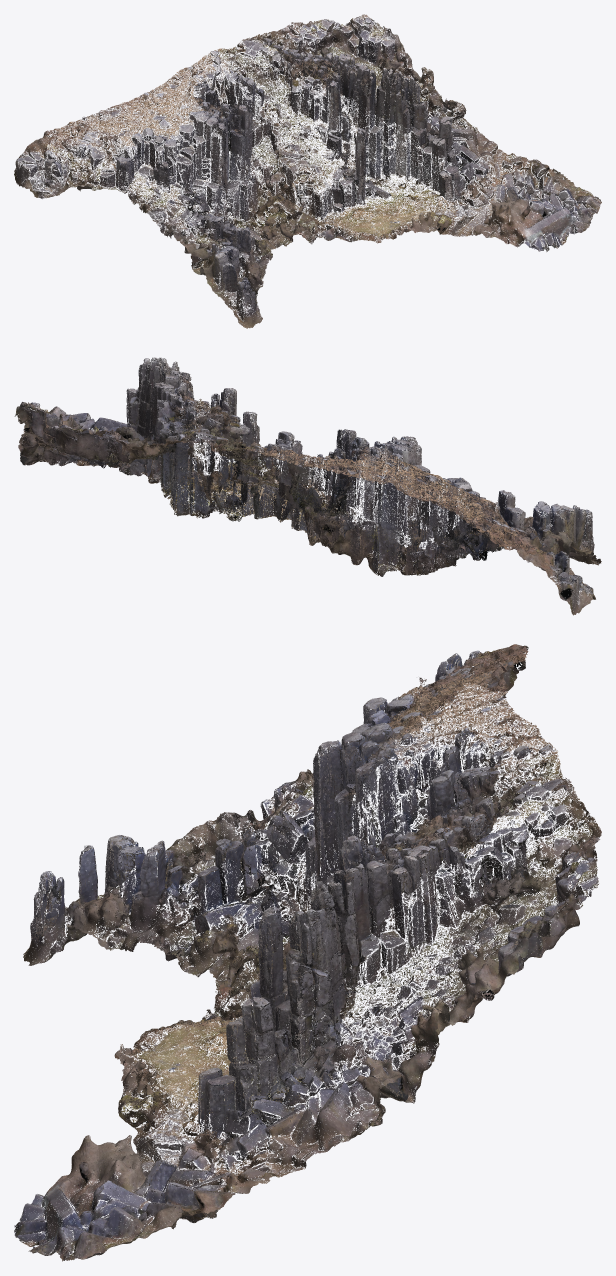
The model's file is mudeung.glb.
The picture shows the model from 3 angles, top to bottom: view 1: azimuth 30°, elevation 25°; view 2: azimuth 150°, elevation 25°; view 3: azimuth 270°, elevation 25°; orthographic projection. The views are drawn at different scales.
Parts seen in each view (by area): view 1: SM_MDS_Entire_M_MDS_Entire_0.049, SM_MDS_Entire_M_MDS_Entire_0.050, SM_MDS_Entire_M_MDS_Entire_0.047, SM_MDS_Entire_M_MDS_Entire_0.048, SM_MDS_Entire_M_MDS_Entire_0.051, SM_MDS_Entire_M_MDS_Entire_0.052, SM_MDS_Entire_M_MDS_Entire_0.046, SM_MDS_Entire_M_MDS_Entire_0.053, SM_MDS_Entire_M_MDS_Entire_0.055, SM_MDS_Entire_M_MDS_Entire_0.056, SM_MDS_Entire_M_MDS_Entire_0.054, SM_MDS_Entire_M_MDS_Entire_0.045 (+70 smaller); view 2: SM_MDS_Entire_M_MDS_Entire_0.049, SM_MDS_Entire_M_MDS_Entire_0.050, SM_MDS_Entire_M_MDS_Entire_0.047, SM_MDS_Entire_M_MDS_Entire_0.048, SM_MDS_Entire_M_MDS_Entire_0.051, SM_MDS_Entire_M_MDS_Entire_0.046, SM_MDS_Entire_M_MDS_Entire_0.053, SM_MDS_Entire_M_MDS_Entire_0.052, SM_MDS_Entire_M_MDS_Entire_0.045, SM_MDS_Entire_M_MDS_Entire_0.056, SM_MDS_Entire_M_MDS_Entire_0.054, SM_MDS_Entire_M_MDS_Entire_0.040 (+70 smaller); view 3: SM_MDS_Entire_M_MDS_Entire_0.049, SM_MDS_Entire_M_MDS_Entire_0.050, SM_MDS_Entire_M_MDS_Entire_0.048, SM_MDS_Entire_M_MDS_Entire_0.051, SM_MDS_Entire_M_MDS_Entire_0.047, SM_MDS_Entire_M_MDS_Entire_0.046, SM_MDS_Entire_M_MDS_Entire_0.053, SM_MDS_Entire_M_MDS_Entire_0.052, SM_MDS_Entire_M_MDS_Entire_0.054, SM_MDS_Entire_M_MDS_Entire_0.055, SM_MDS_Entire_M_MDS_Entire_0.056, SM_MDS_Entire_M_MDS_Entire_0.045 (+71 smaller).
Boxes of the visible parts, x1=… form: SM_MDS_Entire_M_MDS_Entire_0.049: x1=16, y1=15, x2=598, y2=324; SM_MDS_Entire_M_MDS_Entire_0.050: x1=14, y1=20, x2=600, y2=328; SM_MDS_Entire_M_MDS_Entire_0.047: x1=14, y1=15, x2=597, y2=327; SM_MDS_Entire_M_MDS_Entire_0.048: x1=16, y1=15, x2=598, y2=326; SM_MDS_Entire_M_MDS_Entire_0.051: x1=17, y1=18, x2=600, y2=327; SM_MDS_Entire_M_MDS_Entire_0.052: x1=14, y1=21, x2=600, y2=326; SM_MDS_Entire_M_MDS_Entire_0.046: x1=18, y1=20, x2=598, y2=322; SM_MDS_Entire_M_MDS_Entire_0.053: x1=16, y1=16, x2=599, y2=325; SM_MDS_Entire_M_MDS_Entire_0.055: x1=16, y1=18, x2=595, y2=327; SM_MDS_Entire_M_MDS_Entire_0.056: x1=19, y1=19, x2=597, y2=322; SM_MDS_Entire_M_MDS_Entire_0.054: x1=16, y1=16, x2=597, y2=325; SM_MDS_Entire_M_MDS_Entire_0.045: x1=16, y1=16, x2=599, y2=328; SM_MDS_Entire_M_MDS_Entire_0.049: x1=18, y1=357, x2=598, y2=614; SM_MDS_Entire_M_MDS_Entire_0.050: x1=17, y1=359, x2=599, y2=609; SM_MDS_Entire_M_MDS_Entire_0.047: x1=19, y1=358, x2=595, y2=609; SM_MDS_Entire_M_MDS_Entire_0.048: x1=18, y1=358, x2=594, y2=612; SM_MDS_Entire_M_MDS_Entire_0.051: x1=17, y1=360, x2=596, y2=599; SM_MDS_Entire_M_MDS_Entire_0.046: x1=16, y1=357, x2=593, y2=612; SM_MDS_Entire_M_MDS_Entire_0.053: x1=19, y1=359, x2=597, y2=600; SM_MDS_Entire_M_MDS_Entire_0.052: x1=16, y1=358, x2=595, y2=615; SM_MDS_Entire_M_MDS_Entire_0.045: x1=16, y1=361, x2=597, y2=608; SM_MDS_Entire_M_MDS_Entire_0.056: x1=18, y1=359, x2=595, y2=612; SM_MDS_Entire_M_MDS_Entire_0.054: x1=14, y1=359, x2=598, y2=608; SM_MDS_Entire_M_MDS_Entire_0.040: x1=20, y1=362, x2=599, y2=614; SM_MDS_Entire_M_MDS_Entire_0.049: x1=19, y1=648, x2=596, y2=1258; SM_MDS_Entire_M_MDS_Entire_0.050: x1=24, y1=647, x2=601, y2=1258; SM_MDS_Entire_M_MDS_Entire_0.048: x1=16, y1=645, x2=601, y2=1260; SM_MDS_Entire_M_MDS_Entire_0.051: x1=18, y1=645, x2=597, y2=1258; SM_MDS_Entire_M_MDS_Entire_0.047: x1=24, y1=646, x2=599, y2=1256; SM_MDS_Entire_M_MDS_Entire_0.046: x1=15, y1=646, x2=599, y2=1255; SM_MDS_Entire_M_MDS_Entire_0.053: x1=19, y1=648, x2=598, y2=1260; SM_MDS_Entire_M_MDS_Entire_0.052: x1=14, y1=648, x2=600, y2=1258; SM_MDS_Entire_M_MDS_Entire_0.054: x1=18, y1=646, x2=598, y2=1260; SM_MDS_Entire_M_MDS_Entire_0.055: x1=20, y1=644, x2=599, y2=1257; SM_MDS_Entire_M_MDS_Entire_0.056: x1=15, y1=649, x2=601, y2=1254; SM_MDS_Entire_M_MDS_Entire_0.045: x1=15, y1=645, x2=599, y2=1258.
Bounding box in the file's own units: 97.33 × 30.22 × 52.56.
1 material, 1 textured.
